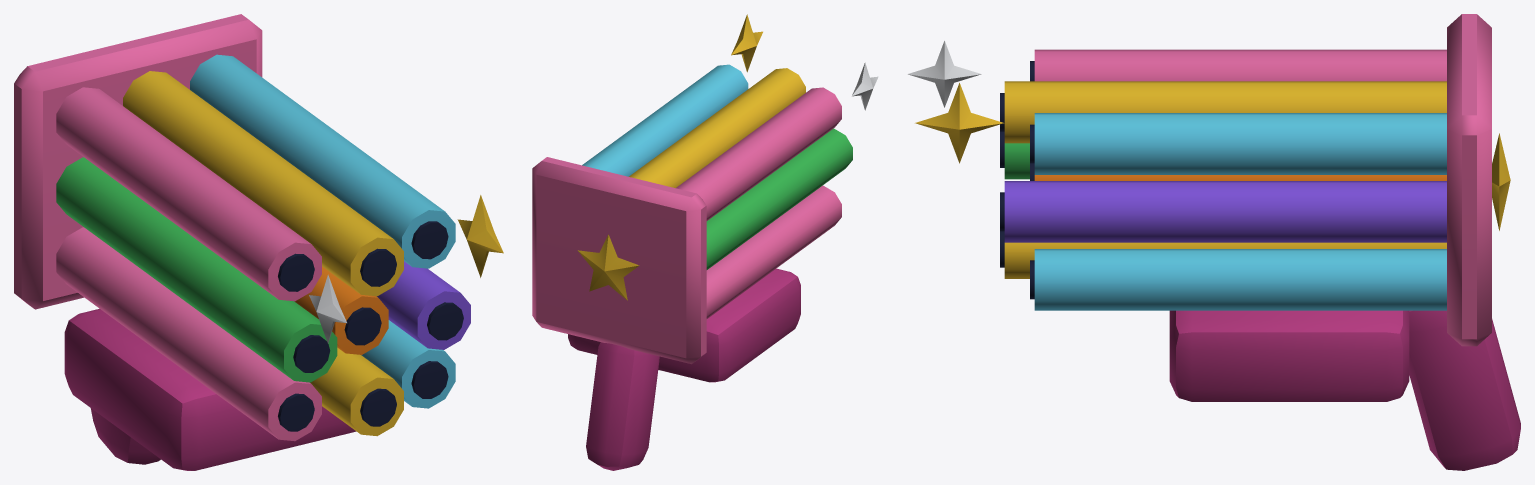
File: w_g_finale.glb
3 views of the same model, side by side, from view 1: azimuth 30°, elevation 25°; view 2: azimuth 150°, elevation 25°; view 3: azimuth 270°, elevation 25° (orthographic). The views are drawn at different scales.
Visible parts, largest first — view 1: body; view 2: body; view 3: body.
Part boxes in pixels (x1,y1,x2,y2): body: (14, 14, 503, 470); body: (532, 14, 878, 470); body: (907, 14, 1520, 470).
Size of the model in its own units: 0.324 by 0.5593 by 0.7368.
